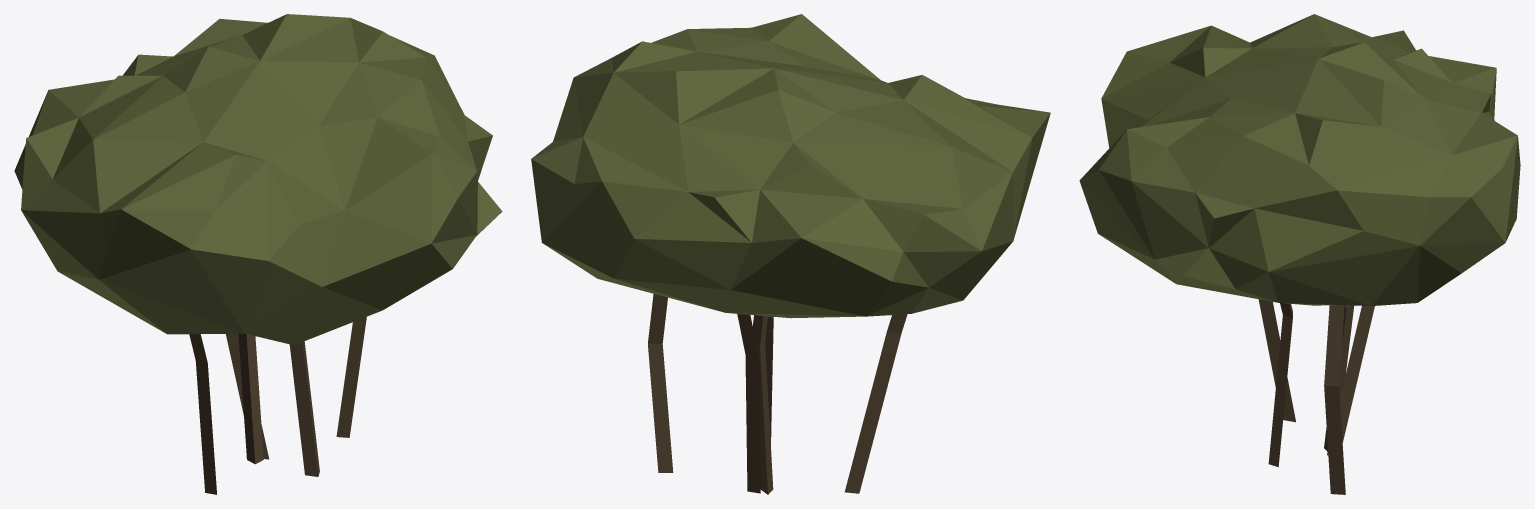
File: SM_Env_Bush_01.glb
The picture shows the model from 3 angles, left to right: view 1: azimuth 30°, elevation 25°; view 2: azimuth 150°, elevation 25°; view 3: azimuth 270°, elevation 25°; orthographic projection. The views are drawn at different scales.
Visible parts, largest first — view 1: SM_Env_Bush_01_part00; view 2: SM_Env_Bush_01_part00; view 3: SM_Env_Bush_01_part00.
Boxes of the visible parts, left/top/right/bottom form: SM_Env_Bush_01_part00: left=14, top=14, right=502, bottom=494; SM_Env_Bush_01_part00: left=531, top=14, right=1050, bottom=494; SM_Env_Bush_01_part00: left=1079, top=14, right=1520, bottom=494.
Size of the model in its own units: 1.4 by 1.32 by 1.33.
1 material, 1 textured.
